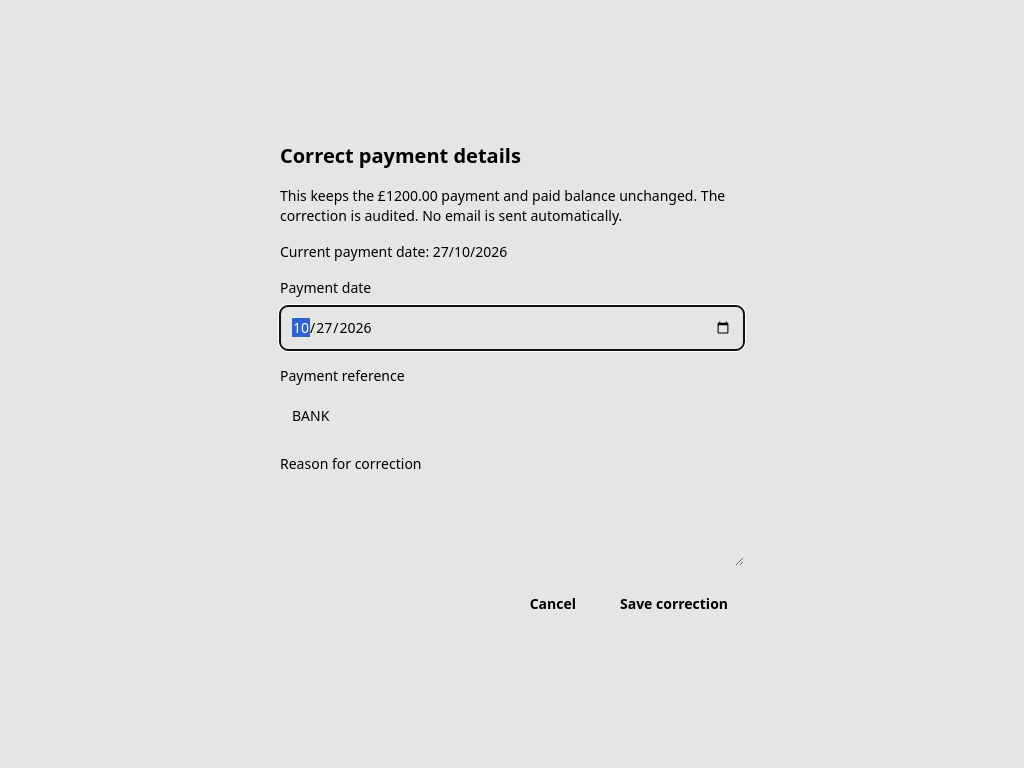
Test: correct payment dialog result handling › keeps the dialog open and reports a structured stale error without claiming success
Type "2026-10-26" into the date field labelled "Payment date" at (512, 328), box x1=280 y1=306 x2=744 y2=350
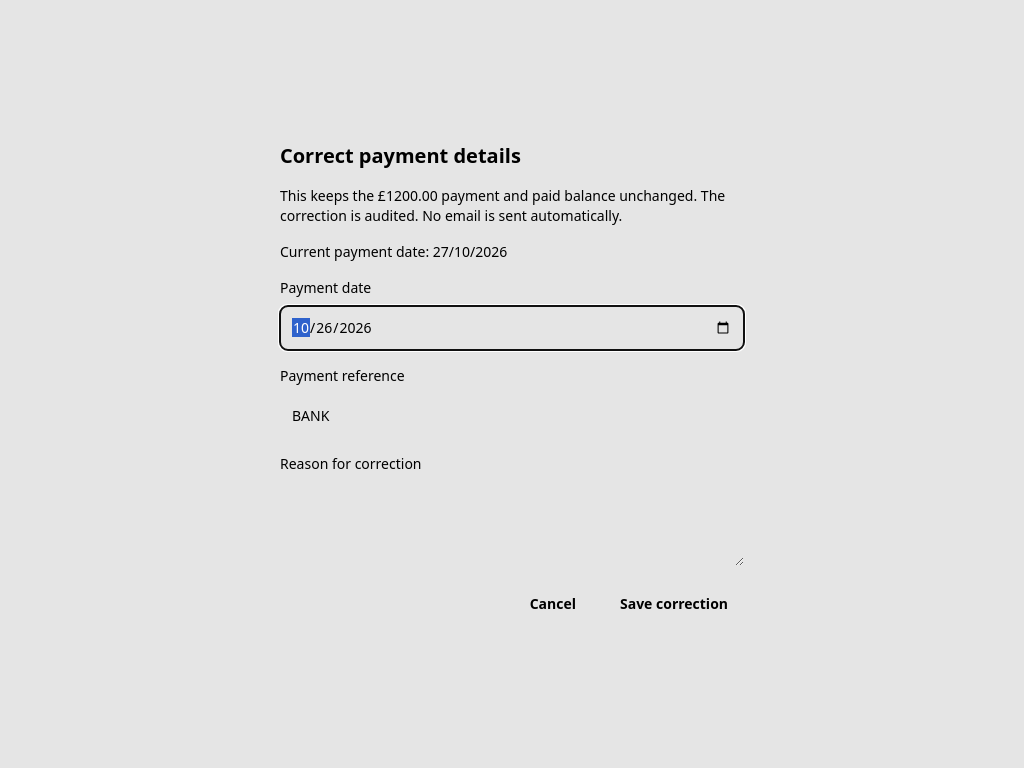
Type "Incorrect bank date" into the text box labelled "Reason for correction" at (512, 524), box x1=280 y1=482 x2=744 y2=566
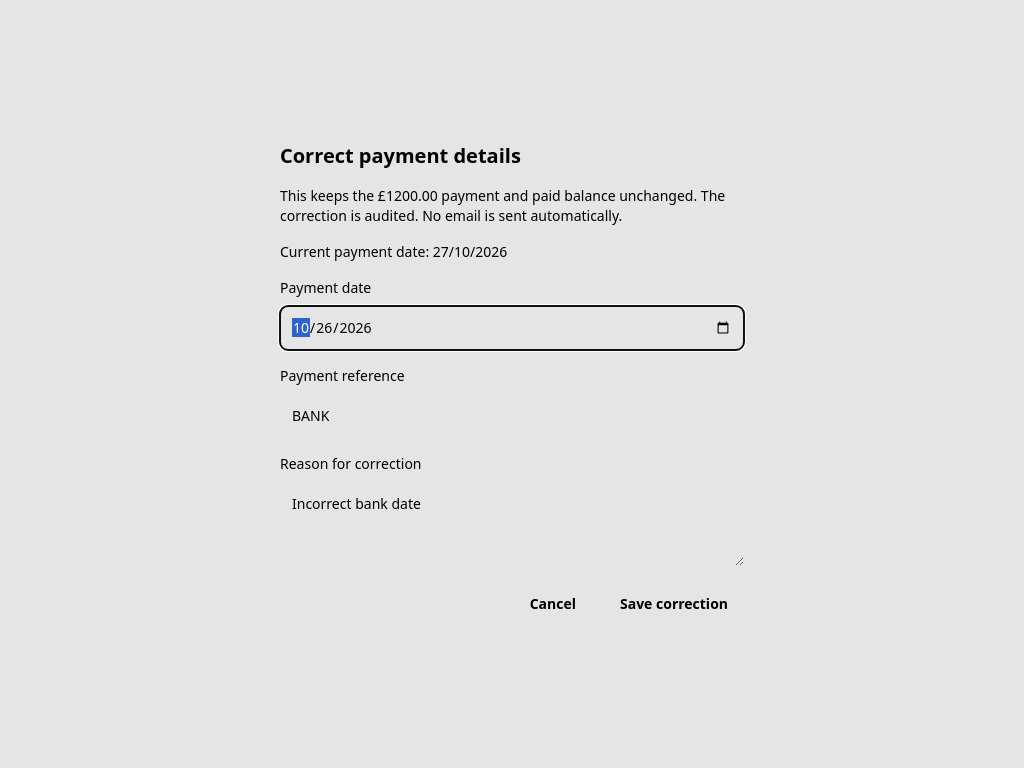
Click the button "Save correction" at (674, 604), box x1=604 y1=582 x2=744 y2=626
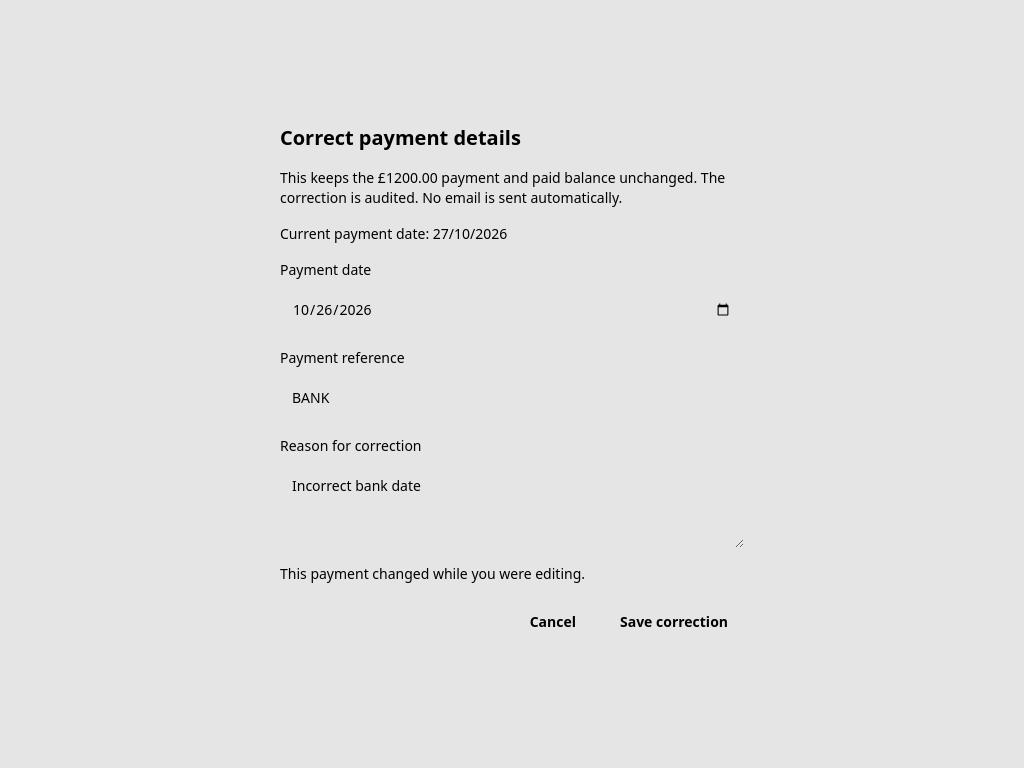
Expected: the button "Save correction" is shown, x1=604 y1=600 x2=744 y2=644
Expected: the message shows "changed while you were editing", x1=280 y1=564 x2=585 y2=583
